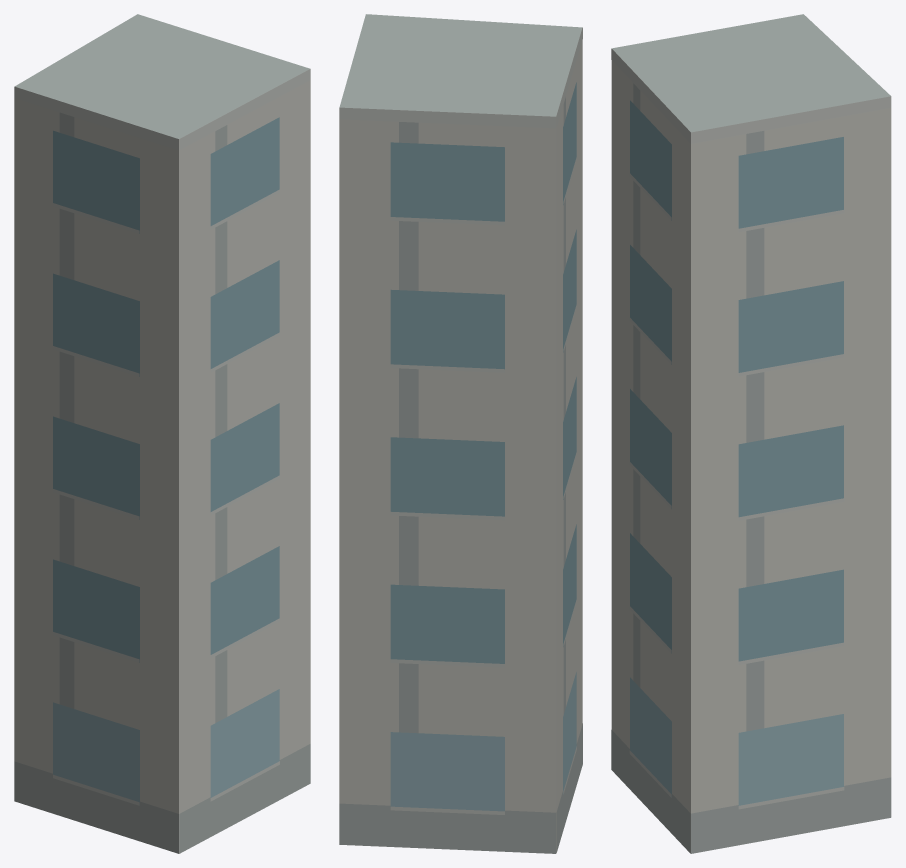
Rendered from survey-upis-33044661.glb.
The picture shows the model from 3 angles, left to right: view 1: azimuth 30°, elevation 25°; view 2: azimuth 150°, elevation 25°; view 3: azimuth 270°, elevation 25°; orthographic projection. The views are drawn at different scales.
Parts seen in each view (by area): view 1: survey-upis-33044661.tmp; view 2: survey-upis-33044661.tmp; view 3: survey-upis-33044661.tmp.
Boxes of the visible parts, x1=… form: survey-upis-33044661.tmp: x1=14, y1=14, x2=310, y2=853; survey-upis-33044661.tmp: x1=339, y1=14, x2=582, y2=853; survey-upis-33044661.tmp: x1=611, y1=14, x2=891, y2=853.
Bounding box in the file's own units: 5.38 × 15.25 × 5.37.
